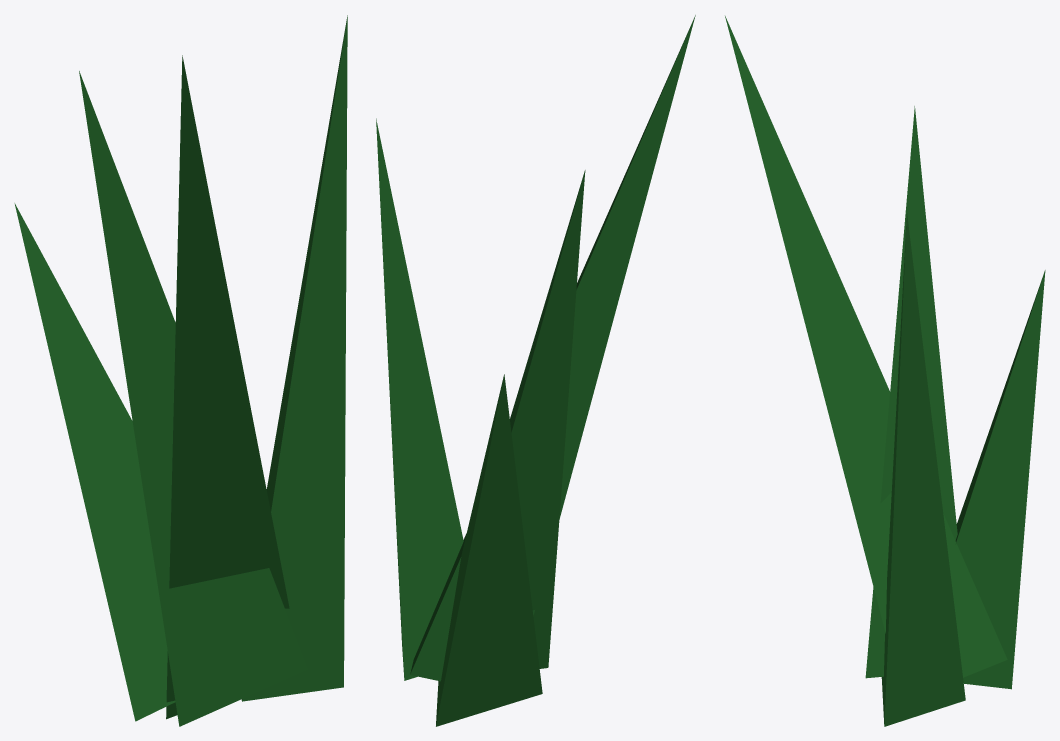
Rendered from Grass.fbx.
3 views of the same model, side by side, from view 1: azimuth 30°, elevation 25°; view 2: azimuth 150°, elevation 25°; view 3: azimuth 270°, elevation 25° (orthographic). The views are drawn at different scales.
Parts seen in each view (by area): view 1: Grass; view 2: Grass; view 3: Grass.
Boxes of the visible parts, x1,y1,x2,y2 form: Grass: (14,15,347,726); Grass: (376,15,695,726); Grass: (725,16,1045,726).
Bounding box in the file's own units: 0.3016 × 0.8046 × 0.3771.
